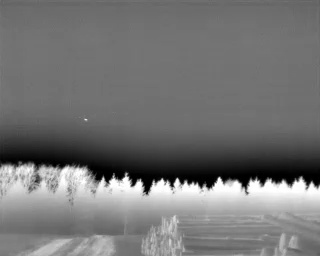AIRPLANE: (82, 116, 90, 123)
